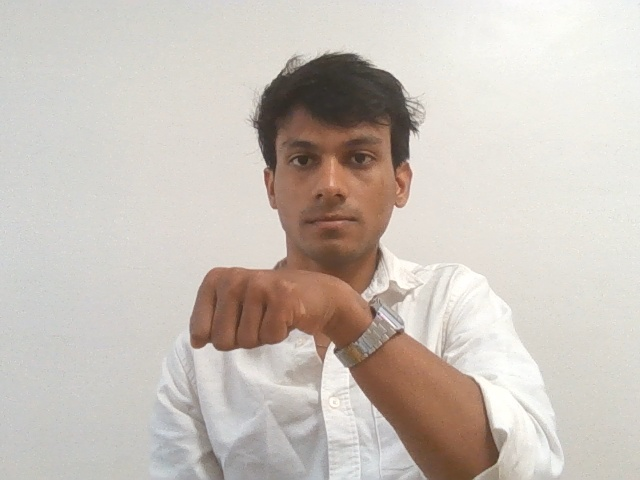Yes: (183, 253, 349, 365)
